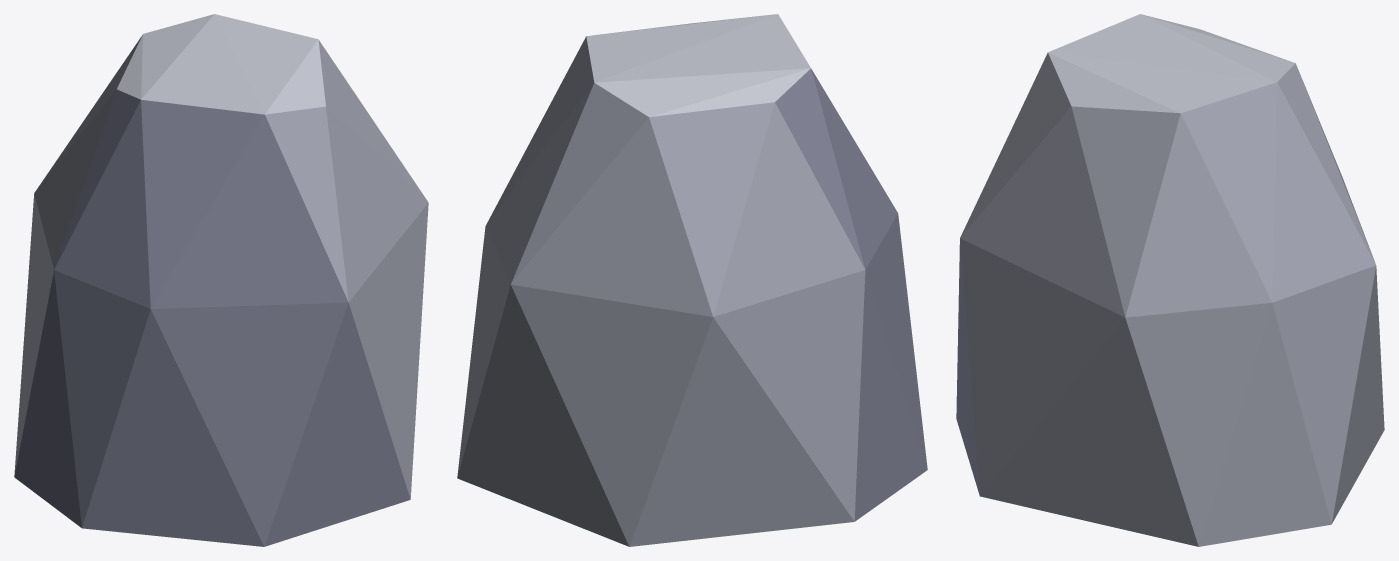
Rendered from stone_smallH.glb.
The picture shows the model from 3 angles, left to right: view 1: azimuth 30°, elevation 25°; view 2: azimuth 150°, elevation 25°; view 3: azimuth 270°, elevation 25°; orthographic projection. The views are drawn at different scales.
Visible parts, largest first — view 1: stone_smallH; view 2: stone_smallH; view 3: stone_smallH.
Boxes of the visible parts, x1=… form: stone_smallH: x1=14, y1=14, x2=428, y2=546; stone_smallH: x1=457, y1=14, x2=927, y2=546; stone_smallH: x1=956, y1=14, x2=1384, y2=546.
Size of the model in its own units: 0.4027 by 0.3951 by 0.3924.
Materials: 1 (1 with a texture image).
